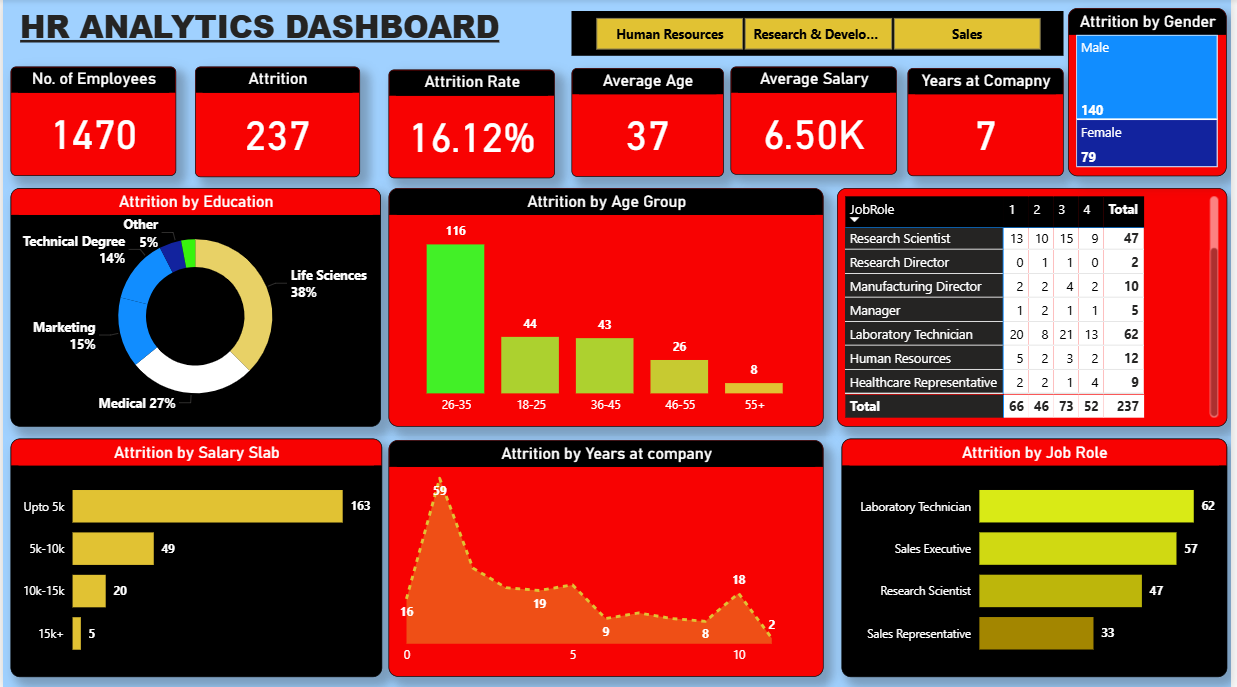

This screenshot's page, from the dashboard's own definition file:
{"tool":"powerbi","page":{"name":"Page 1","canvas":[1280,720],"ordinal":0},"visuals":[{"type":"card","title":"No. of Employees","fields":{"Values":["CountNonNull(HR_Analytics.EmpID)"]},"box":[7.1,70,172.9,114.3],"z":0},{"type":"card","title":"Attrition","fields":{"Values":["Sum(HR_Analytics.Attrition_count)"]},"box":[200,70,171.7,115],"z":1000},{"type":"card","title":"Attrition Rate","fields":{"Values":["HR_Analytics.Attrition_Rate"]},"box":[401.7,73.3,173.3,113.3],"z":2000},{"type":"card","title":"Average Age","fields":{"Values":["Avg(HR_Analytics.Age)"]},"box":[591.7,71.7,158.3,113.3],"z":3000},{"type":"card","title":"Average Salary","fields":{"Values":["Avg(HR_Analytics.MonthlyIncome)"]},"box":[758.7,70,173.4,112.9],"z":4000},{"type":"card","title":" Years at Comapny","fields":{"Values":["Avg(HR_Analytics.YearsAtCompany)"]},"box":[942.5,71.9,162.6,112.5],"z":5000},{"type":"donutChart","title":" Attrition by Education","fields":{"Category":["HR_Analytics.EducationField"],"Y":["Sum(HR_Analytics.Attrition_count)"]},"box":[7.1,197.1,385.7,248.6],"z":6000},{"type":"columnChart","title":" Attrition by Age Group","fields":{"Y":["Sum(HR_Analytics.Attrition_count)"],"Category":["HR_Analytics.AgeGroup"]},"box":[401.7,196.7,453.3,248.3],"z":7000},{"type":"pivotTable","fields":{"Rows":["HR_Analytics.JobRole"],"Columns":["HR_Analytics.JobSatisfaction"],"Values":["Sum(HR_Analytics.Attrition_count)"]},"box":[868.3,196.7,406.7,248.3],"z":8000},{"type":"clusteredBarChart","title":" Attrition by Salary Slab","fields":{"Category":["HR_Analytics.SalarySlab"],"Y":["Sum(HR_Analytics.Attrition_count)"]},"box":[7.1,458.6,387.1,248.6],"z":9000},{"type":"clusteredBarChart","title":" Attrition by Job Role","fields":{"Y":["Sum(HR_Analytics.Attrition_count)"],"Category":["HR_Analytics.JobRole"]},"box":[873.3,458.3,401.7,248.3],"z":10000},{"type":"areaChart","title":" Attrition by Years at company","fields":{"Category":["HR_Analytics.YearsAtCompany"],"Y":["Sum(HR_Analytics.Attrition_count)"]},"box":[401.7,460,453.3,246.7],"z":11000},{"type":"treemap","title":" Attrition by Gender","fields":{"Values":["Sum(HR_Analytics.Attrition_count)"],"Group":["HR_Analytics.Gender"]},"box":[1110,10,165,175],"z":12000},{"type":"slicer","fields":{"Values":["HR_Analytics.Department"]},"box":[592.4,12.5,512.7,46.9],"z":13000},{"type":"textbox","box":[12.5,0,561.1,59.4],"z":14000}]}

Visuals, with their boxes in screenshot pixels (x1, y1, x2, y2), scaled from the page's 1280x720 canvas onto the 1237x687 screenshot:
"No. of Employees" card: <box>7,67,174,176</box>
"Attrition" card: <box>193,67,359,177</box>
"Attrition Rate" card: <box>388,70,556,178</box>
"Average Age" card: <box>572,68,725,177</box>
"Average Salary" card: <box>733,67,901,175</box>
" Years at Comapny" card: <box>911,69,1068,176</box>
" Attrition by Education" donutChart: <box>7,188,380,425</box>
" Attrition by Age Group" columnChart: <box>388,188,826,425</box>
pivotTable - HR_Analytics.JobRole x HR_Analytics.JobSatisfaction: <box>839,188,1232,425</box>
" Attrition by Salary Slab" clusteredBarChart: <box>7,438,381,675</box>
" Attrition by Job Role" clusteredBarChart: <box>844,437,1232,674</box>
" Attrition by Years at company" areaChart: <box>388,439,826,674</box>
" Attrition by Gender" treemap: <box>1073,10,1232,177</box>
slicer - HR_Analytics.Department: <box>572,12,1068,57</box>
textbox: <box>12,0,554,57</box>
